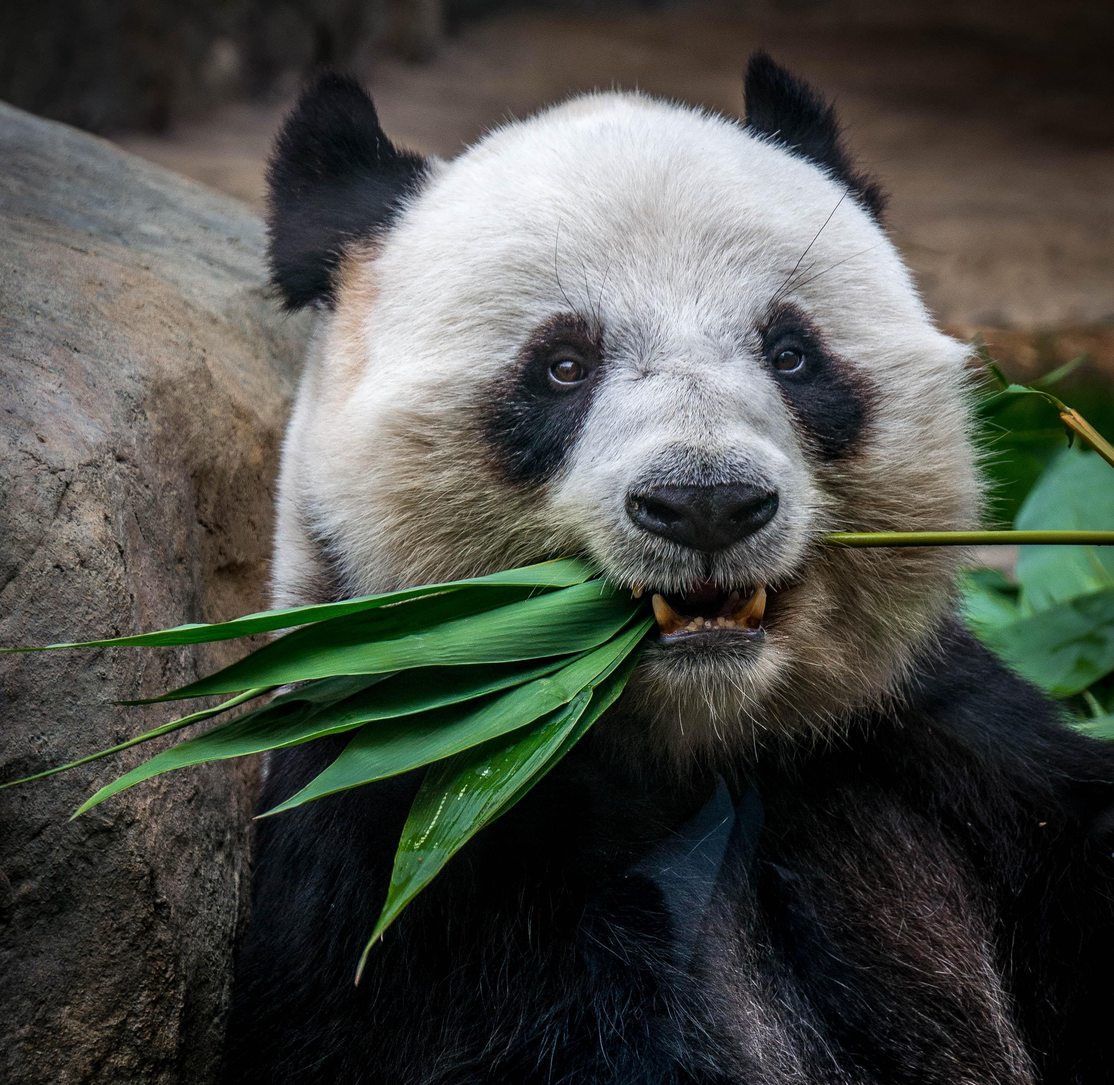panda: (239, 47, 1103, 1085)
